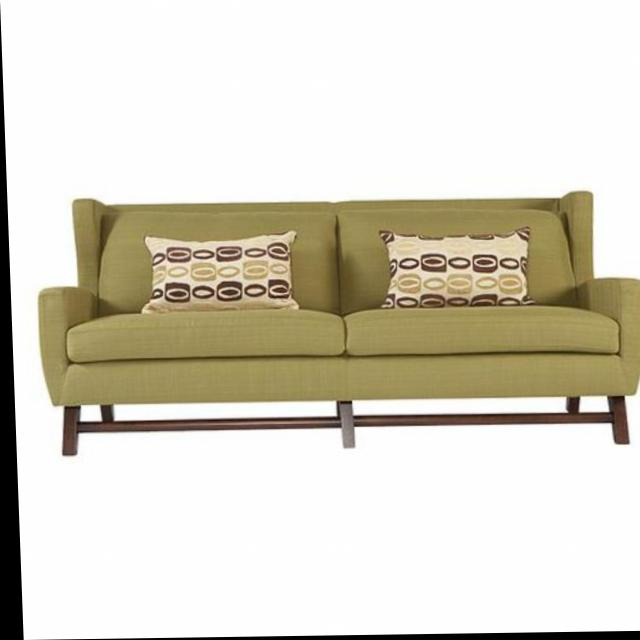Sofa: (29, 191, 640, 453)
